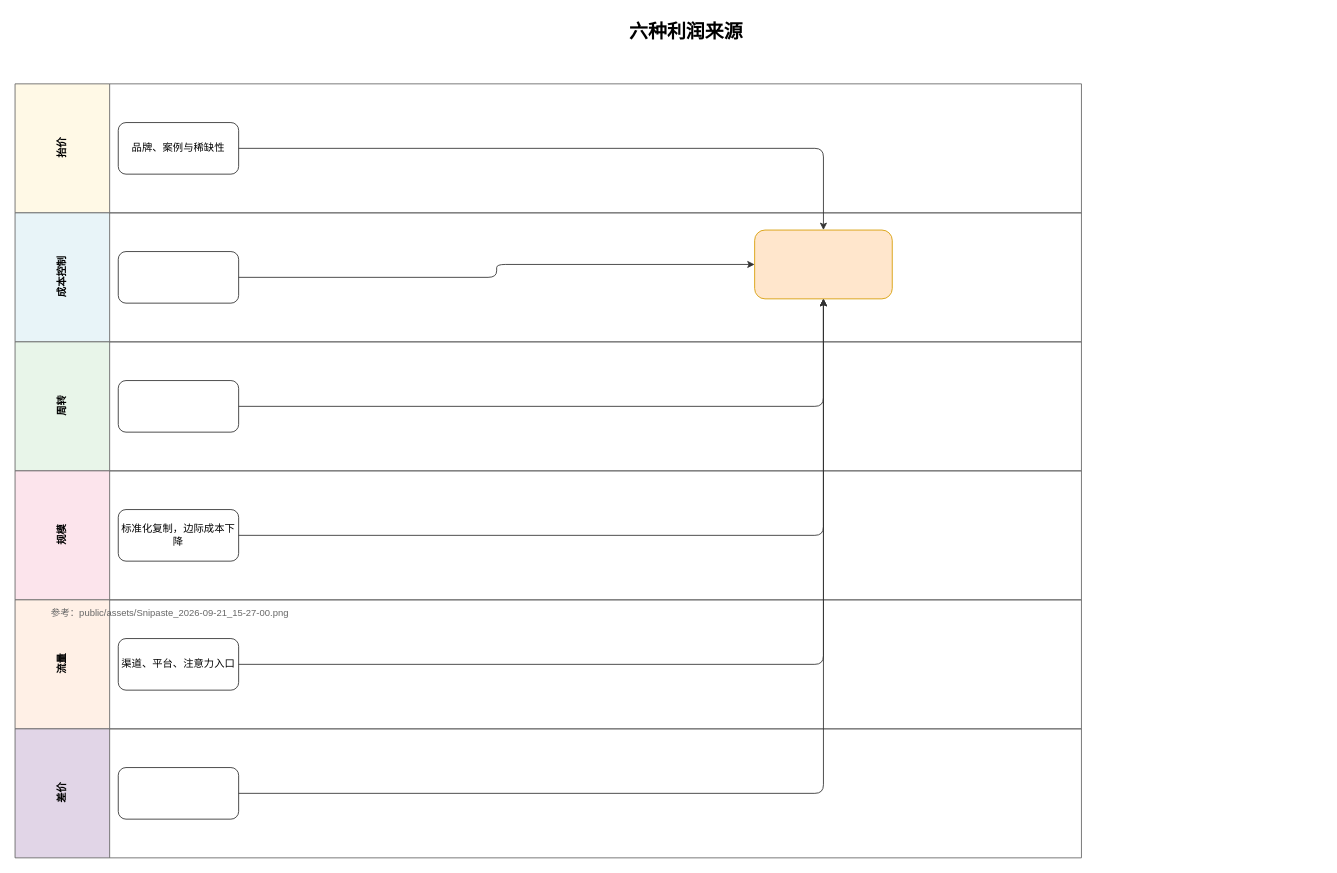
Some shapes in this 1337 by 873 pixel diagram are drawn without their labels. The centre of each missing label's shape, as x and y in pixels:
"供应链、技术、管理" goes at point (178, 277).
"利润湖" goes at point (823, 264).
"时间差、信息差、汇率差、地域差" goes at point (178, 793).
"翻台率、库存周转、资金周转" goes at point (178, 406).
